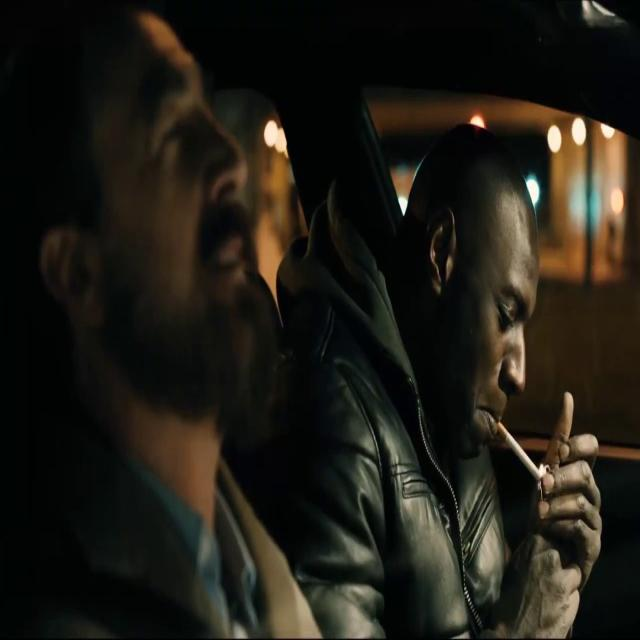Smooking: (497, 406, 546, 484)
